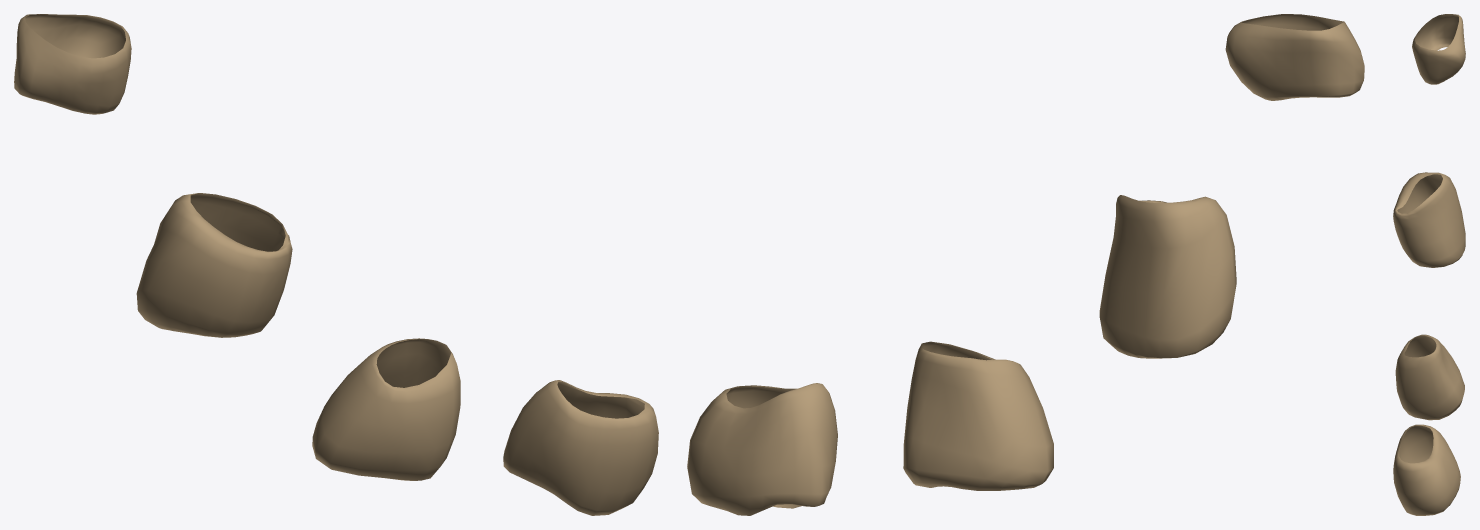
3 renders of one model, left to right at view 1: azimuth 30°, elevation 25°; view 2: azimuth 150°, elevation 25°; view 3: azimuth 270°, elevation 25°, orthographic. The views are drawn at different scales.
Parts seen in each view (by area): view 1: 右侧足远侧趾间关节囊; view 2: 右侧足远侧趾间关节囊; view 3: 右侧足远侧趾间关节囊.
Part boxes in pixels (<box>): 右侧足远侧趾间关节囊: <box>14,14,658,515</box>; 右侧足远侧趾间关节囊: <box>687,14,1364,515</box>; 右侧足远侧趾间关节囊: <box>1393,14,1465,515</box>.
Bounding box in the file's own units: 0.0724 × 0.0665 × 0.0128.
